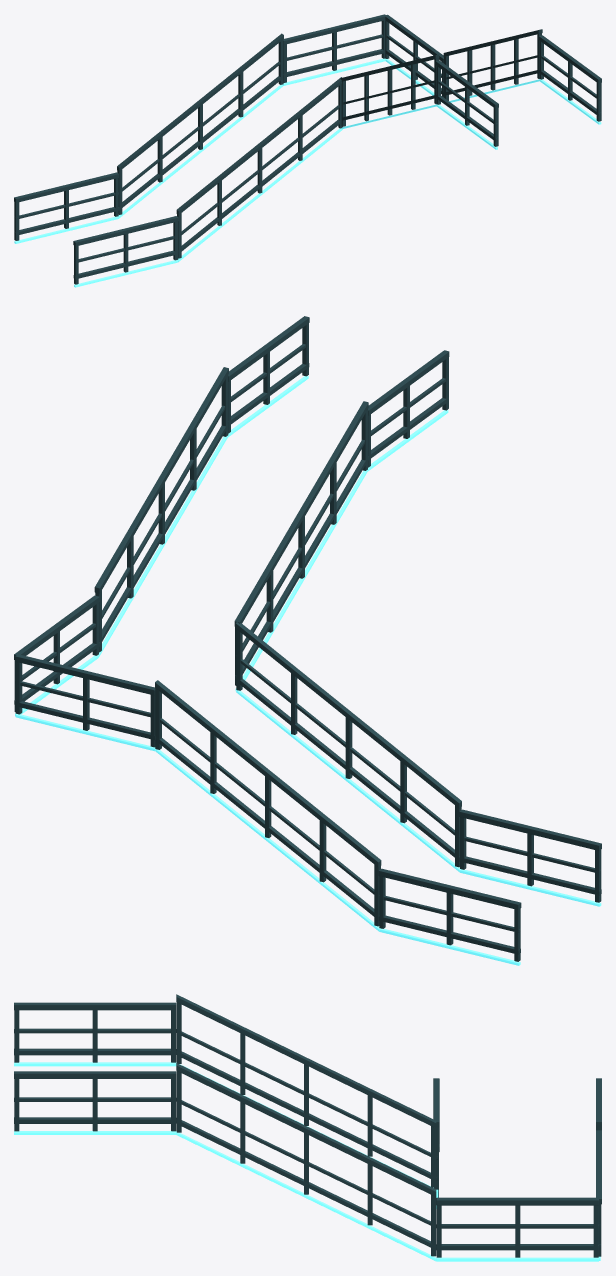
File: d06_harbour_footbridge_06_quay.glb
3 views of the same model, one above another, from view 1: azimuth 30°, elevation 25°; view 2: azimuth 150°, elevation 25°; view 3: azimuth 270°, elevation 25° (orthographic). The views are drawn at different scales.
Visible parts, largest first — view 1: D06HarbourFootbridge06_quay_Mesh; view 2: D06HarbourFootbridge06_quay_Mesh; view 3: D06HarbourFootbridge06_quay_Mesh.
Boxes of the visible parts, <box> form: D06HarbourFootbridge06_quay_Mesh: <box>14,14,601,287</box>; D06HarbourFootbridge06_quay_Mesh: <box>14,316,601,965</box>; D06HarbourFootbridge06_quay_Mesh: <box>14,994,601,1261</box>.
Size of the model in its own units: 11.58 by 7.03 by 11.58.
